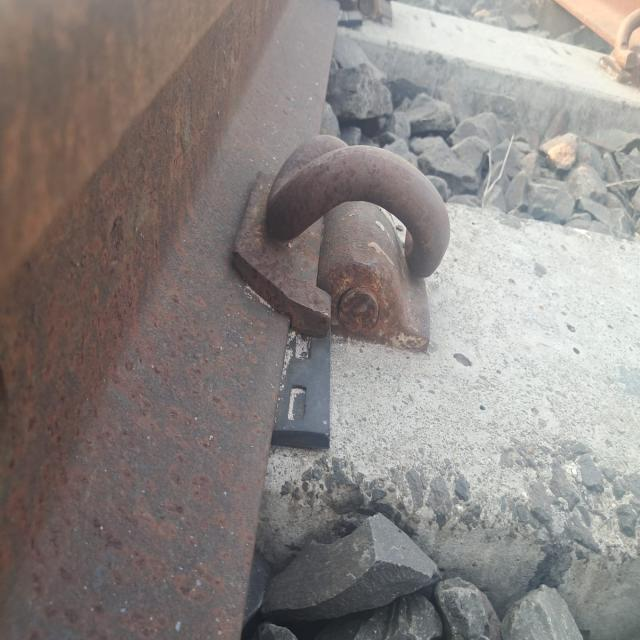overrailed: (235, 82, 471, 369)
